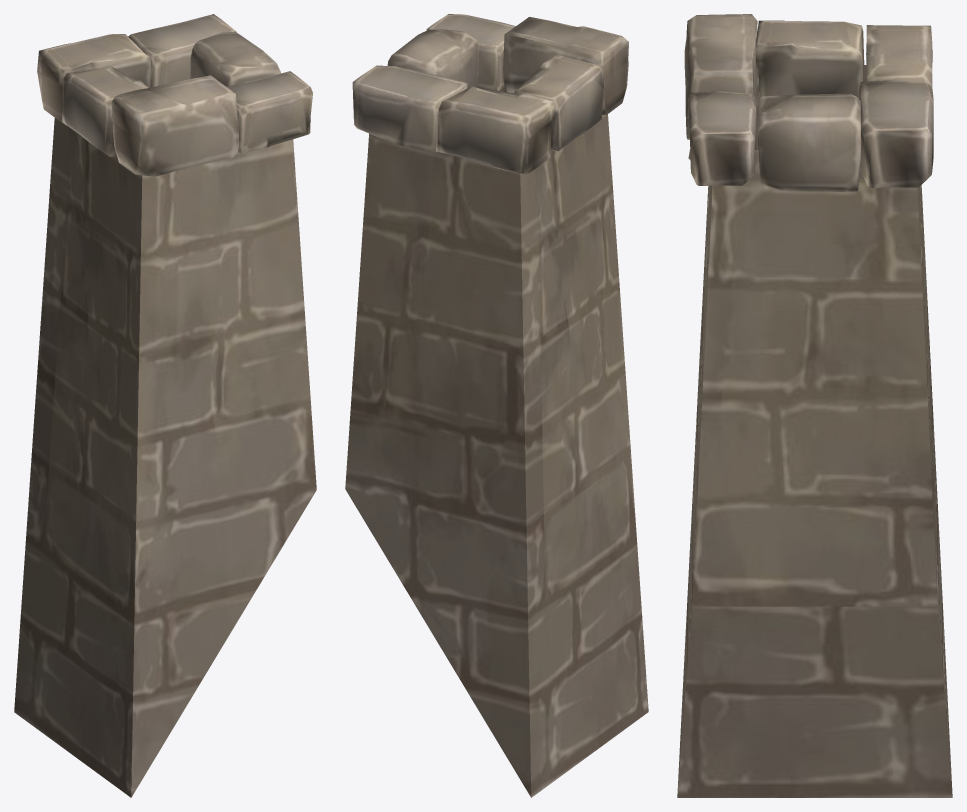
File: chimney-qm-propchimney.glb
3 renders of one model, left to right at view 1: azimuth 30°, elevation 25°; view 2: azimuth 150°, elevation 25°; view 3: azimuth 270°, elevation 25°, orthographic. The views are drawn at different scales.
Visible parts, largest first — view 1: Cube_017_Retopology_006; view 2: Cube_017_Retopology_006; view 3: Cube_017_Retopology_006.
Part boxes in pixels (box(x1,y1,x2,y2)): Cube_017_Retopology_006: box(14, 14, 316, 797); Cube_017_Retopology_006: box(345, 14, 648, 797); Cube_017_Retopology_006: box(677, 14, 952, 797).
Size of the model in its own units: 0.9458 by 3.18 by 1.
Materials: 2 (2 with a texture image).
